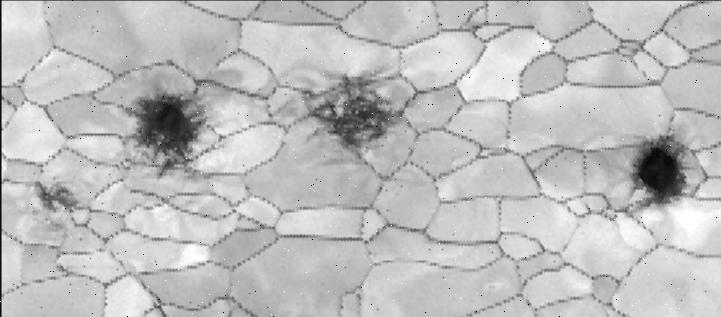good_void: (284, 66, 406, 169), (128, 76, 223, 173), (622, 123, 694, 223), (24, 175, 86, 218), (76, 235, 85, 244)
